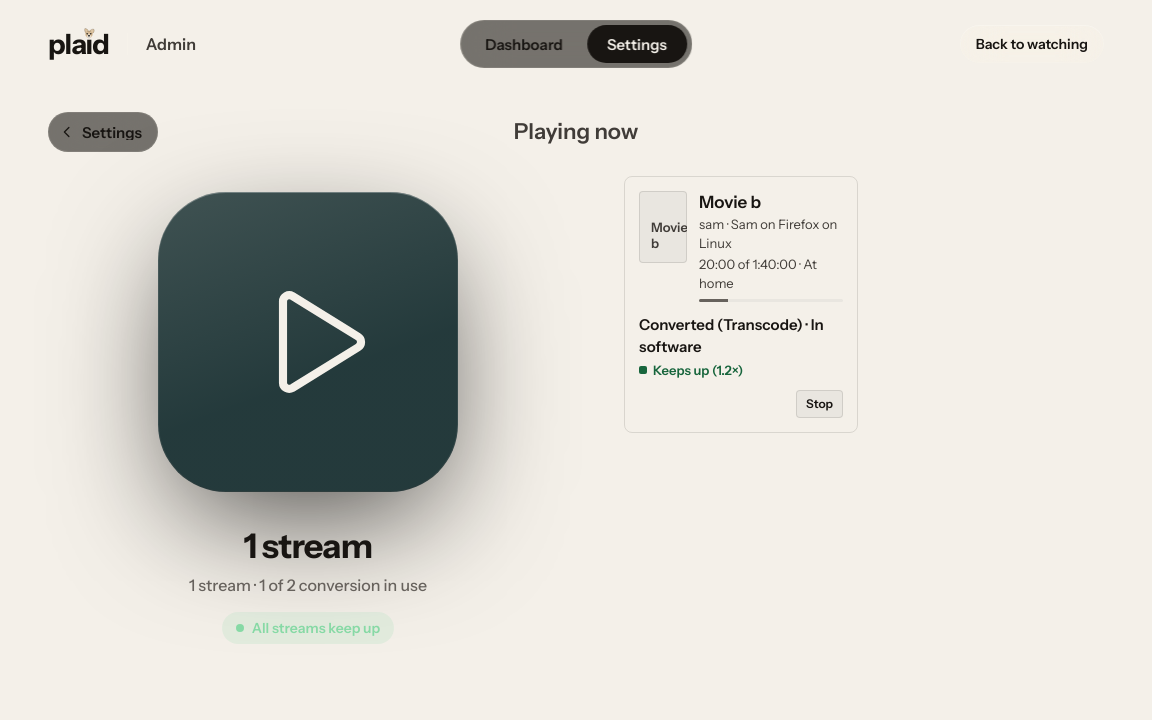
Test case: playing now › stops a stream after a confirmation
Click the button "Stop".
click(820, 404)  # box [796, 390, 843, 418]
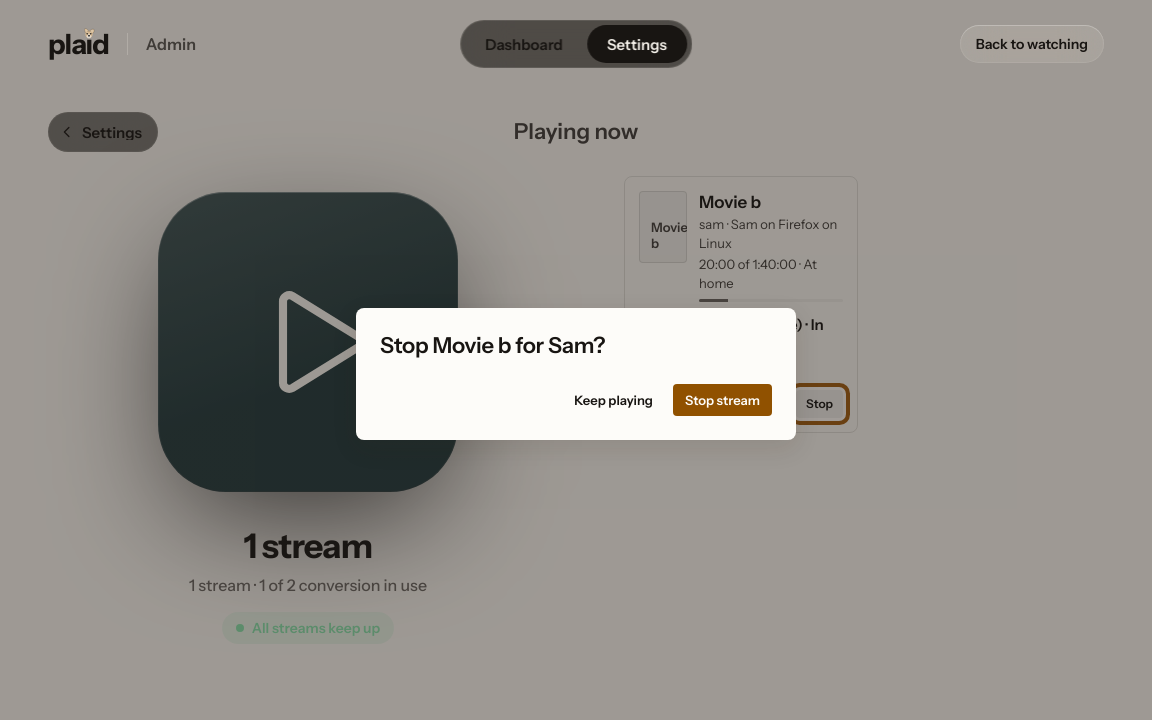
Click the button "Stop stream".
click(722, 400)  # box [673, 384, 772, 416]
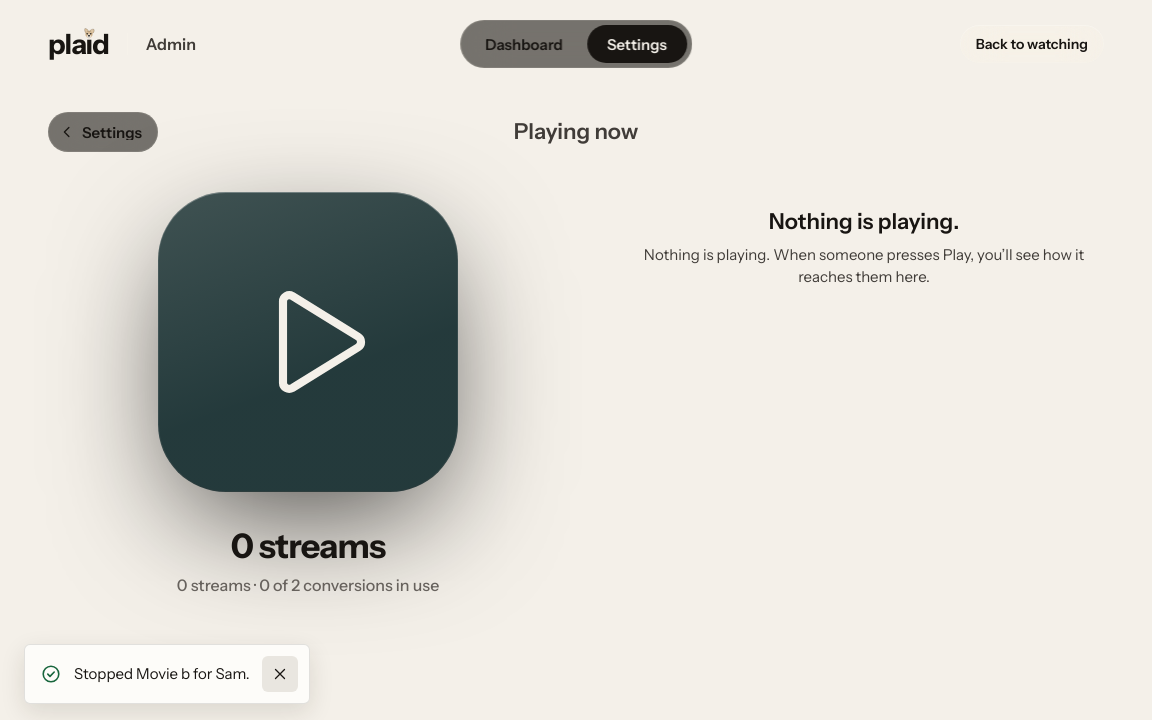
Check: the text "Stopped Movie b for Sam." is shown, box [74, 664, 250, 684]
Check: the text "Nothing is playing." is shown, box [769, 208, 959, 236]
